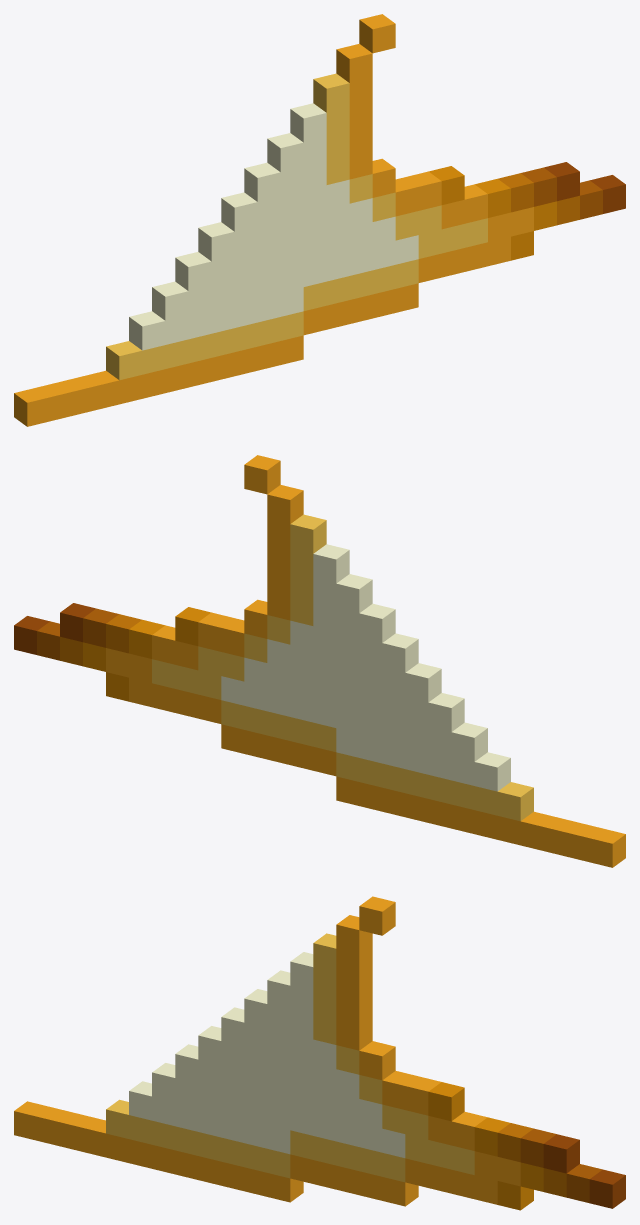
File: Fight_755_2_15_fx.obj
3 renders of one model, top to bottom at view 1: azimuth 30°, elevation 25°; view 2: azimuth 150°, elevation 25°; view 3: azimuth 330°, elevation 25°, orthographic.
Size of the model in its own units: 2.6 by 1.3 by 0.1.
Materials: 1 (1 with a texture image).
